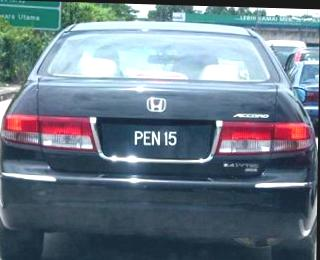License_Plate: (99, 120, 211, 160)
